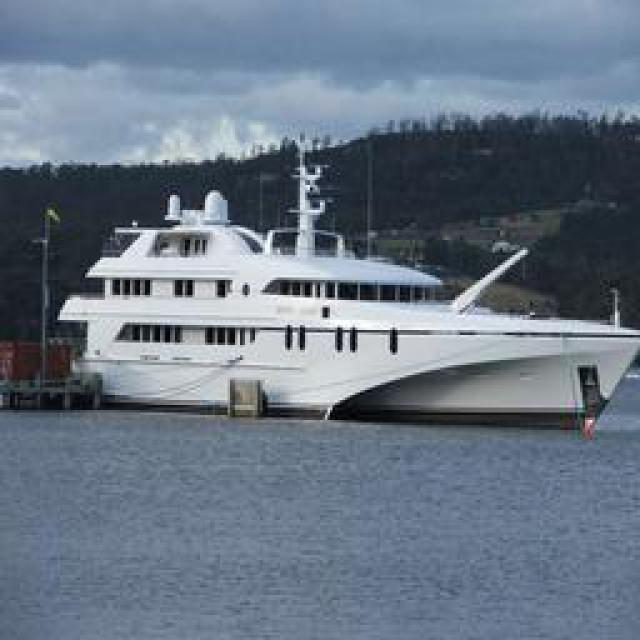Ship: (83, 187, 631, 430)
